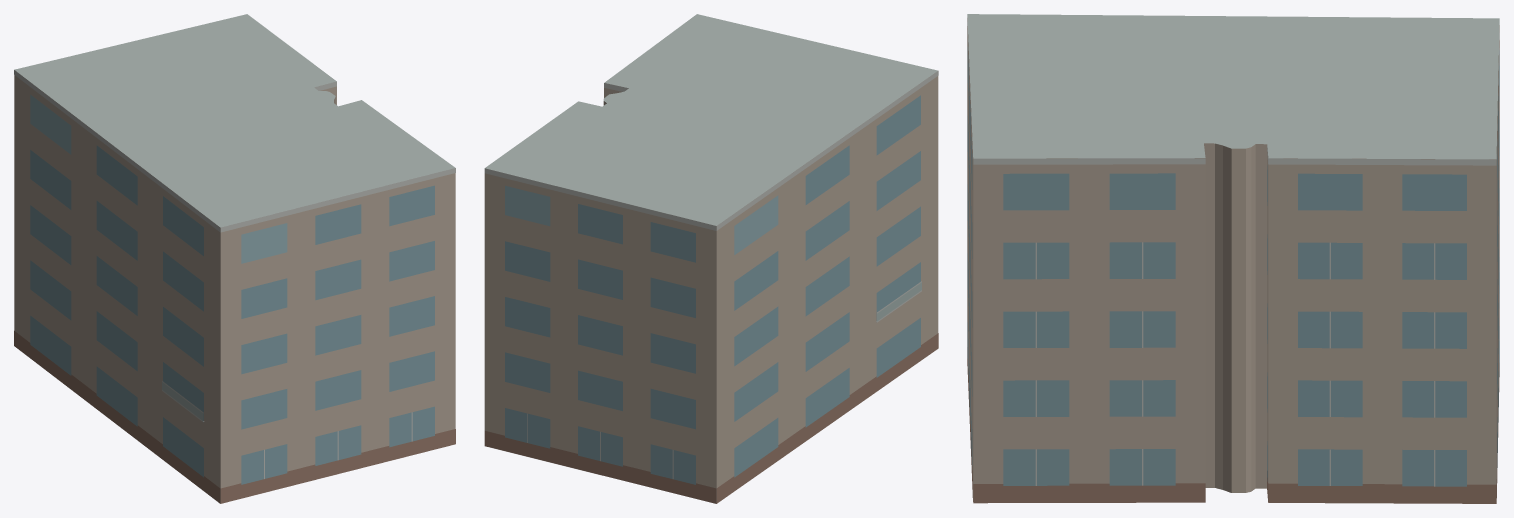
File: survey-upis-32822786.glb
3 renders of one model, left to right at view 1: azimuth 30°, elevation 25°; view 2: azimuth 150°, elevation 25°; view 3: azimuth 270°, elevation 25°, orthographic. The views are drawn at different scales.
Visible parts, largest first — view 1: survey-upis-32822786.tmp; view 2: survey-upis-32822786.tmp; view 3: survey-upis-32822786.tmp.
Part boxes in pixels (x1,y1,x2,y2): survey-upis-32822786.tmp: [14, 14, 455, 503]; survey-upis-32822786.tmp: [484, 14, 938, 503]; survey-upis-32822786.tmp: [967, 14, 1499, 503].
Size of the model in its own units: 12.33 by 13.6 by 19.06.
